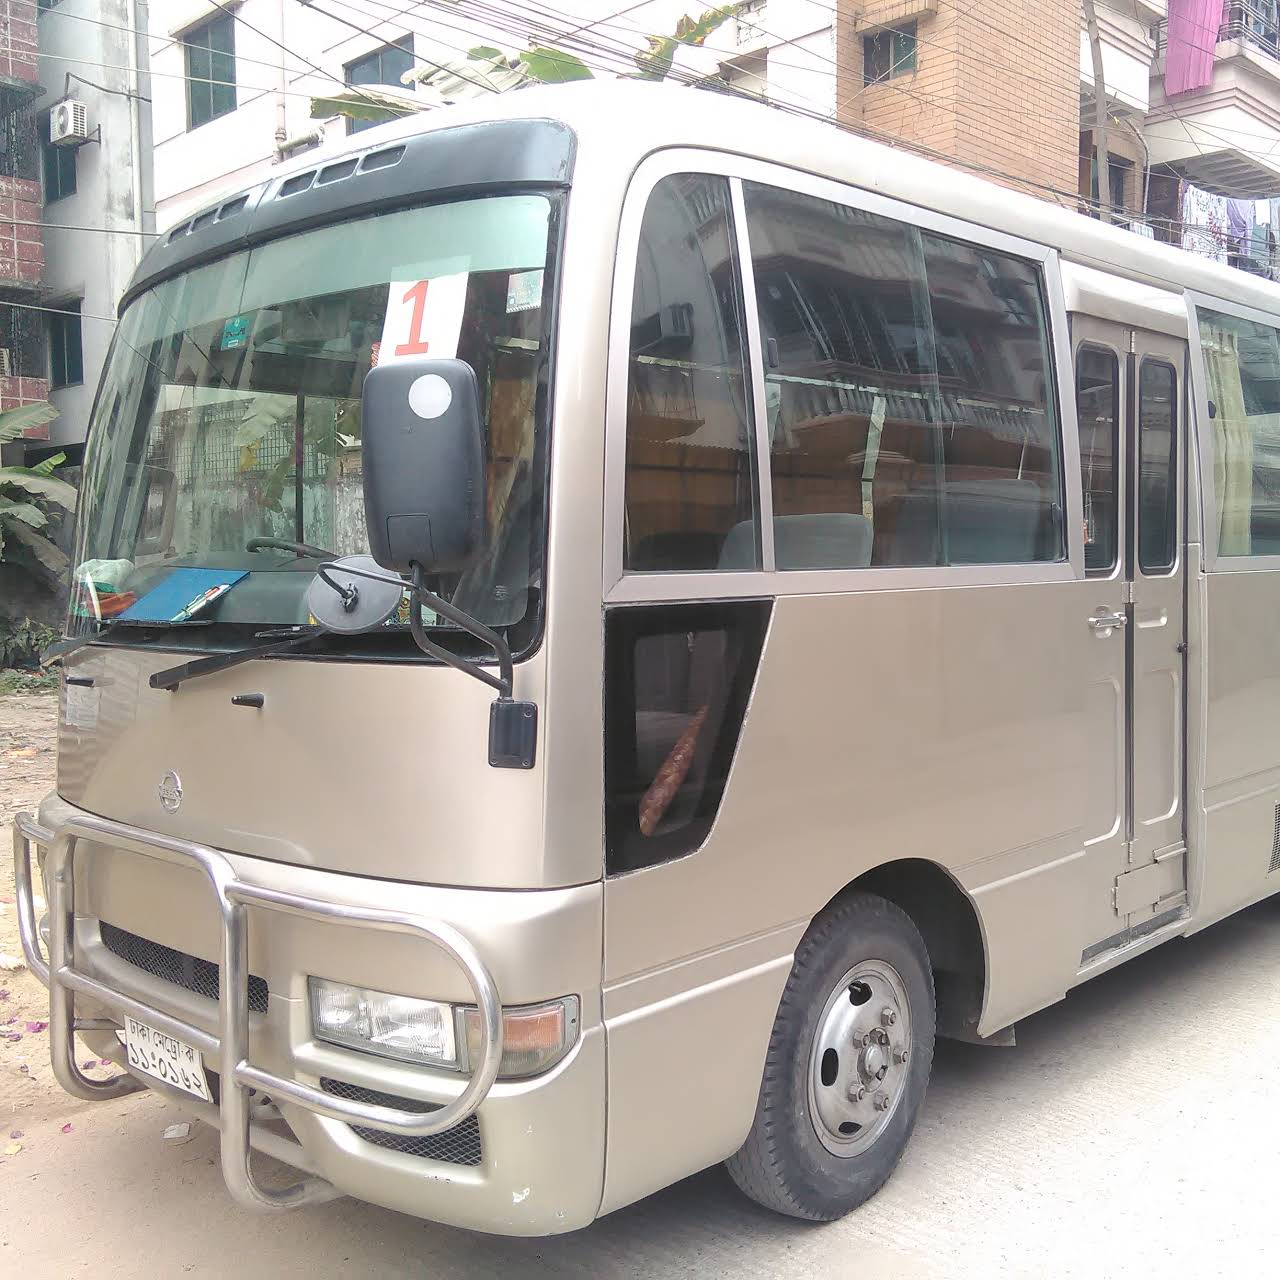minibus: (11, 77, 1280, 1239)
